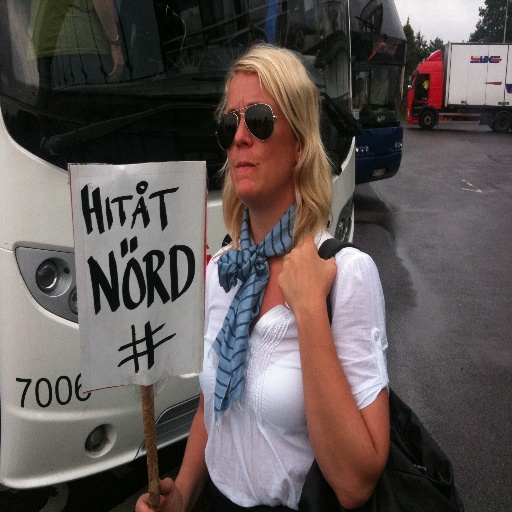hand: (280, 251, 325, 330), (134, 479, 185, 511)
